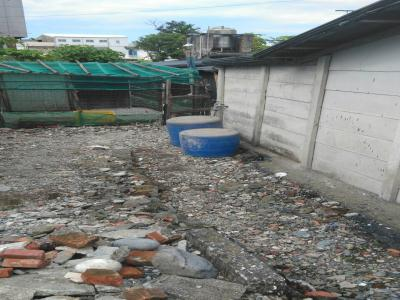bucket: (162, 112, 226, 149), (177, 126, 242, 157)
